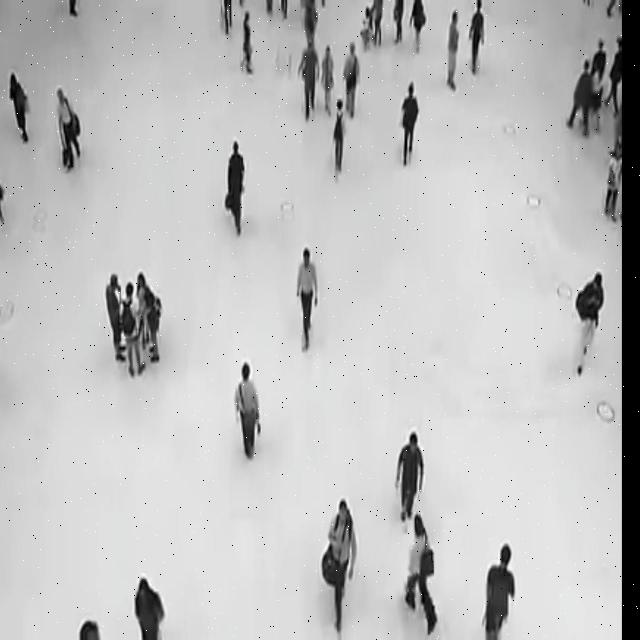humans: (320, 490, 359, 632), (403, 516, 441, 640), (570, 257, 608, 374), (293, 245, 329, 360), (482, 521, 516, 640), (234, 360, 265, 460), (397, 426, 427, 524), (222, 133, 250, 232), (54, 81, 83, 173), (398, 77, 425, 170), (563, 55, 594, 132), (8, 65, 36, 146), (133, 567, 165, 636), (105, 270, 127, 361), (123, 283, 146, 368), (142, 288, 168, 362), (299, 40, 319, 126), (604, 134, 622, 223), (344, 39, 364, 118), (469, 0, 487, 82), (593, 36, 608, 128), (608, 30, 624, 116), (446, 8, 462, 88), (135, 266, 150, 347), (333, 96, 348, 174), (239, 8, 256, 72), (409, 3, 428, 55), (322, 39, 334, 114), (372, 1, 387, 44), (392, 0, 404, 44)
